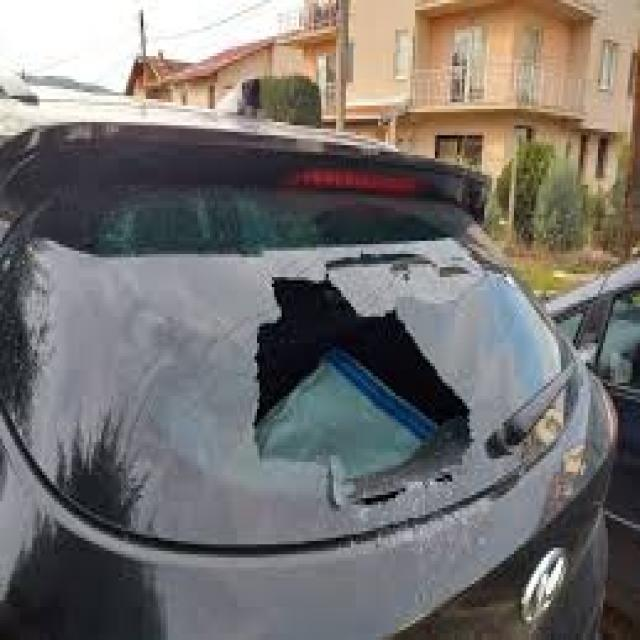damaged-rear-window: (16, 151, 577, 537)
